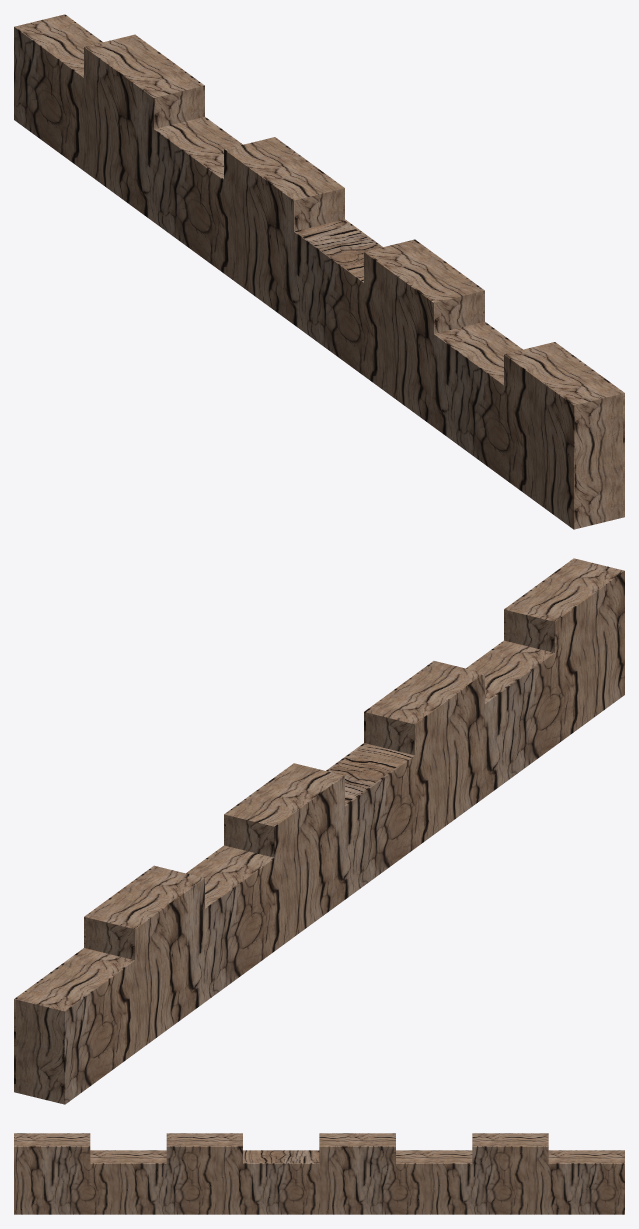
Rendered from BridgeSides.fbx.
3 views of the same model, one above another, from view 1: azimuth 30°, elevation 25°; view 2: azimuth 150°, elevation 25°; view 3: azimuth 270°, elevation 25° (orthographic). The views are drawn at different scales.
Parts seen in each view (by area): view 1: Plane.003; view 2: Plane.003; view 3: Plane.003.
Boxes of the visible parts, x1,y1,x2,y2 form: Plane.003: [14, 14, 624, 529]; Plane.003: [14, 558, 624, 1104]; Plane.003: [14, 1133, 624, 1214].
Size of the model in its own units: 106 by 245 by 2000.
